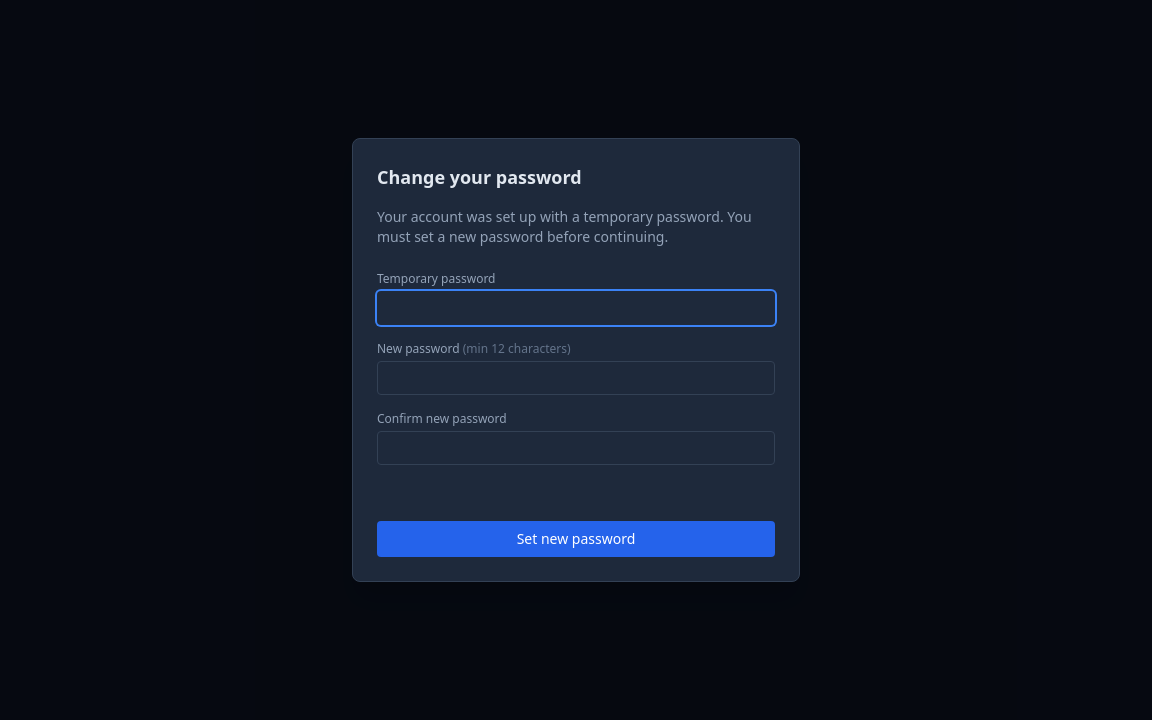
Test: ForceChangePasswordModal › shows client-side error when passwords do not match
In the password field labelled "Temporary password": (576, 308) x1=377 y1=291 x2=775 y2=325, type "oldpassword123"
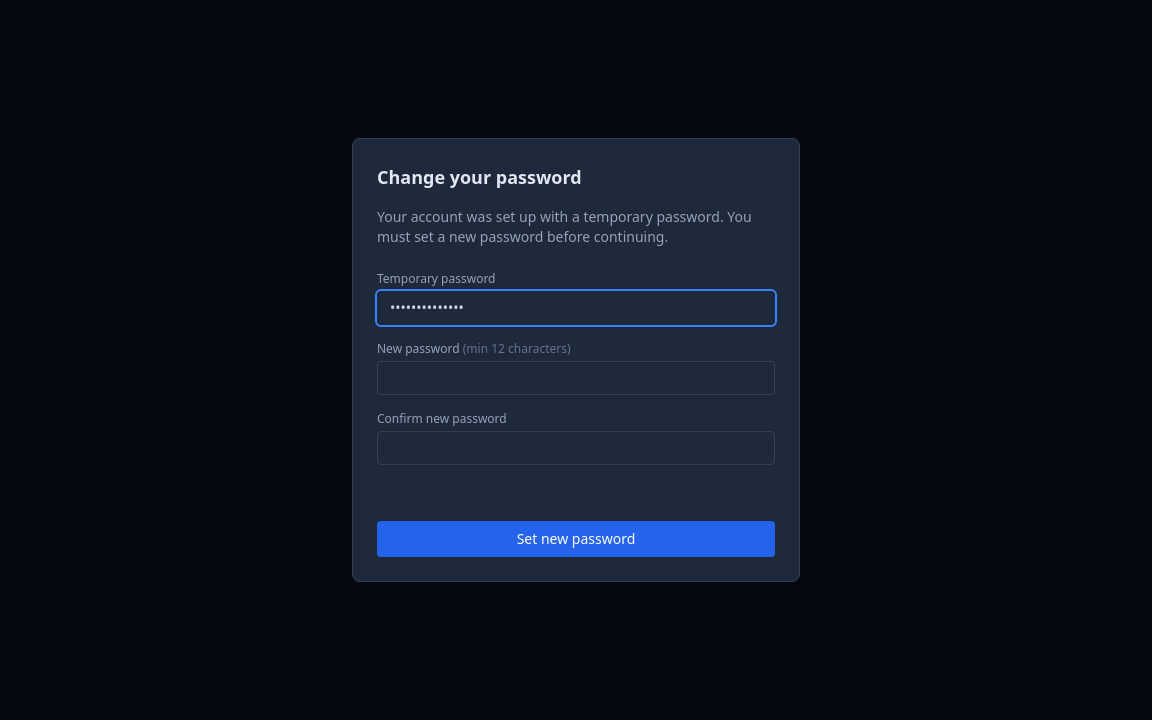
In the password field labelled "New password (min 12 characters)": (576, 378) x1=377 y1=361 x2=775 y2=395, type "newpassword12345"
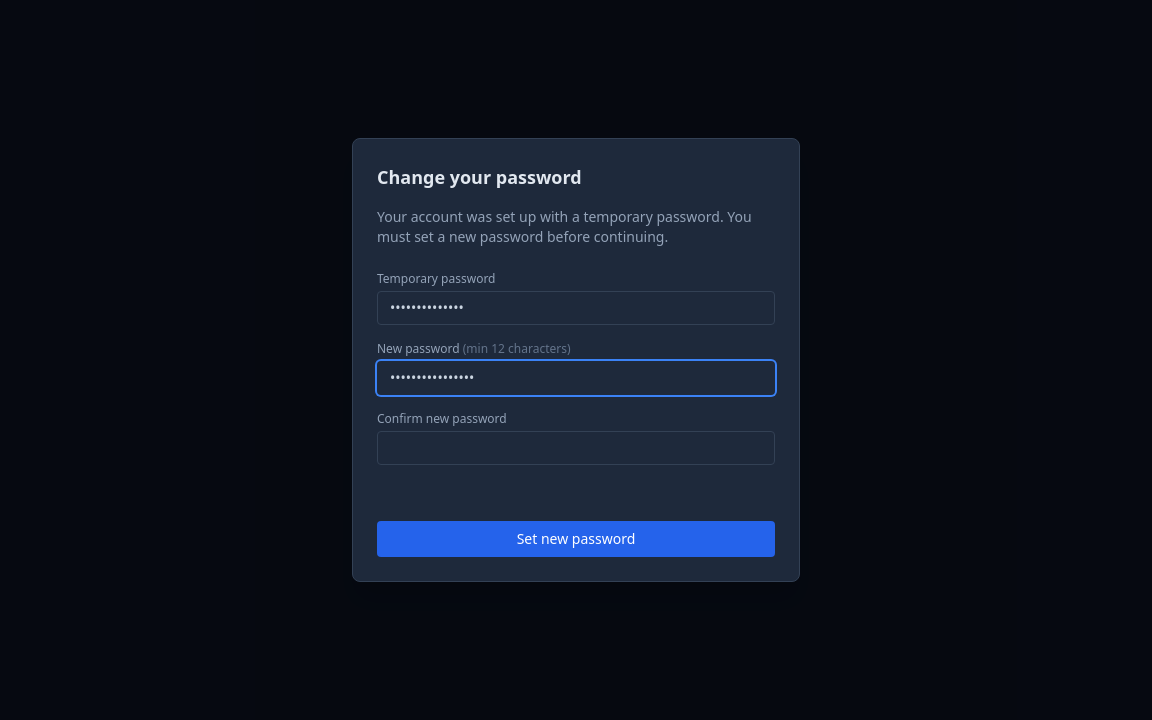
In the password field labelled "Confirm new password": (576, 448) x1=377 y1=431 x2=775 y2=465, type "doesnotmatch"
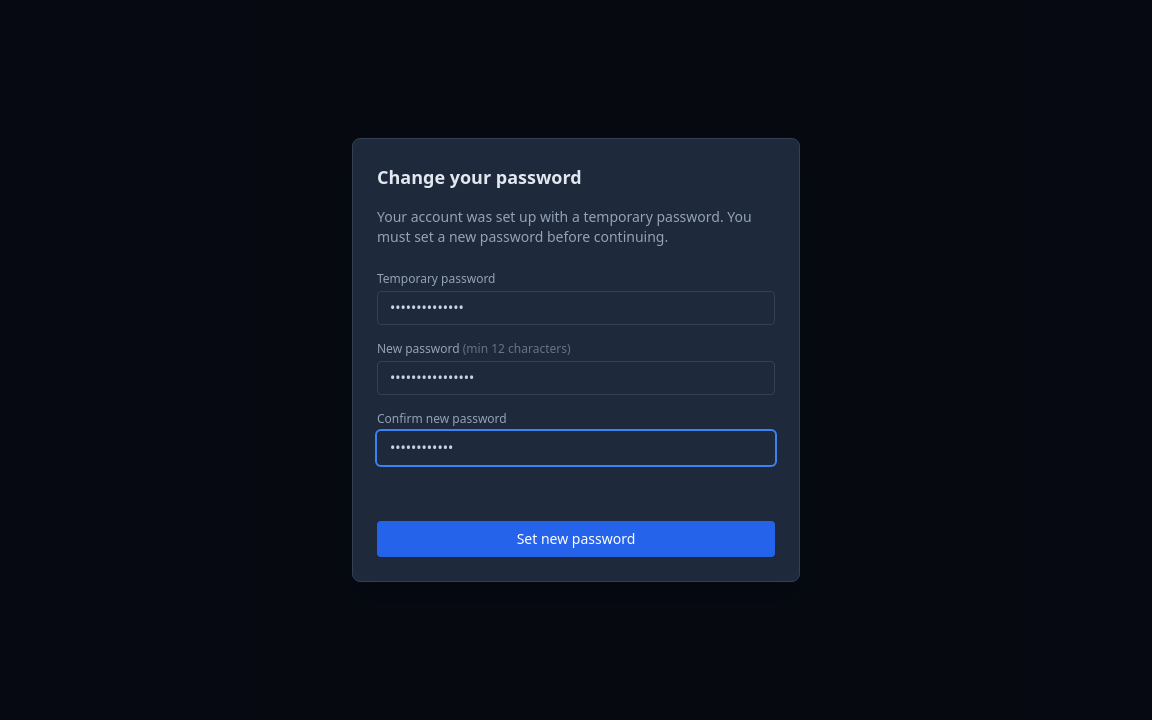
Click the button "Set new password": (576, 539) x1=377 y1=521 x2=775 y2=557
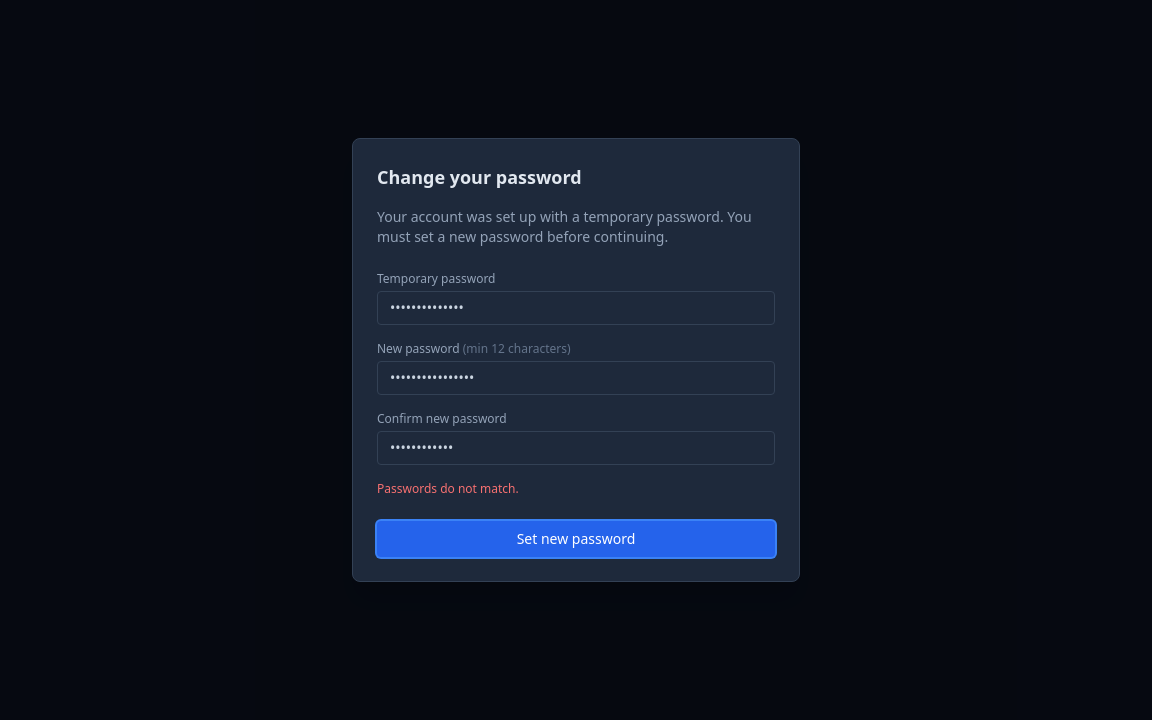
Expected: the text "Passwords do not match." is shown, x1=377 y1=480 x2=519 y2=497
